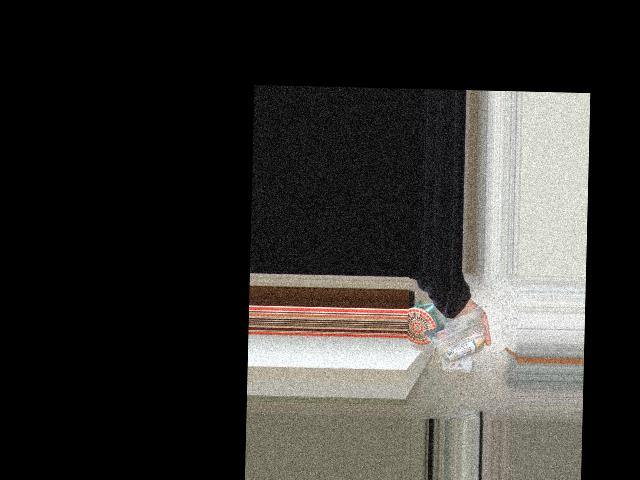cheese: (444, 314, 473, 378)
